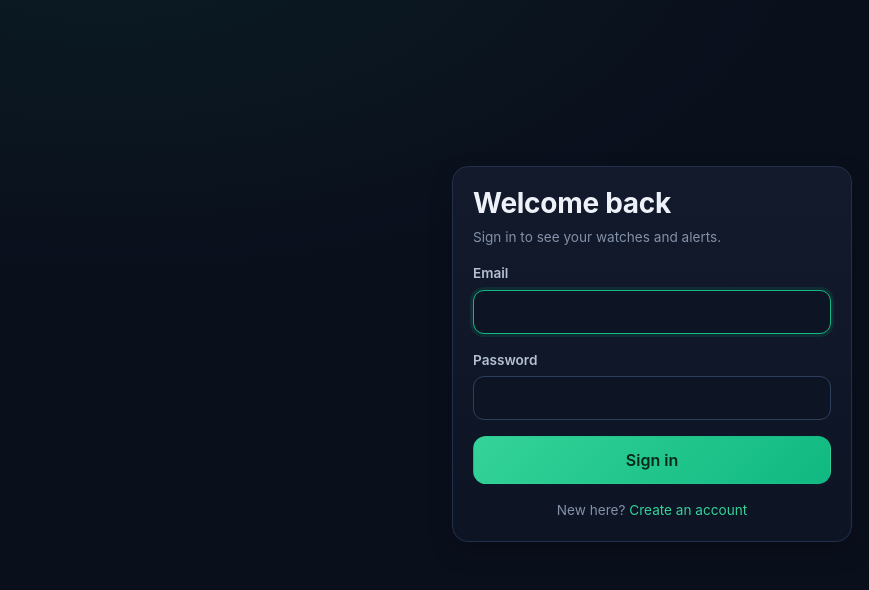
Test: auth pages › shows the server error on failed login
Step 1. Type "a@example.com" into the field labelled "Email" → (652, 312), box [473, 290, 831, 334]
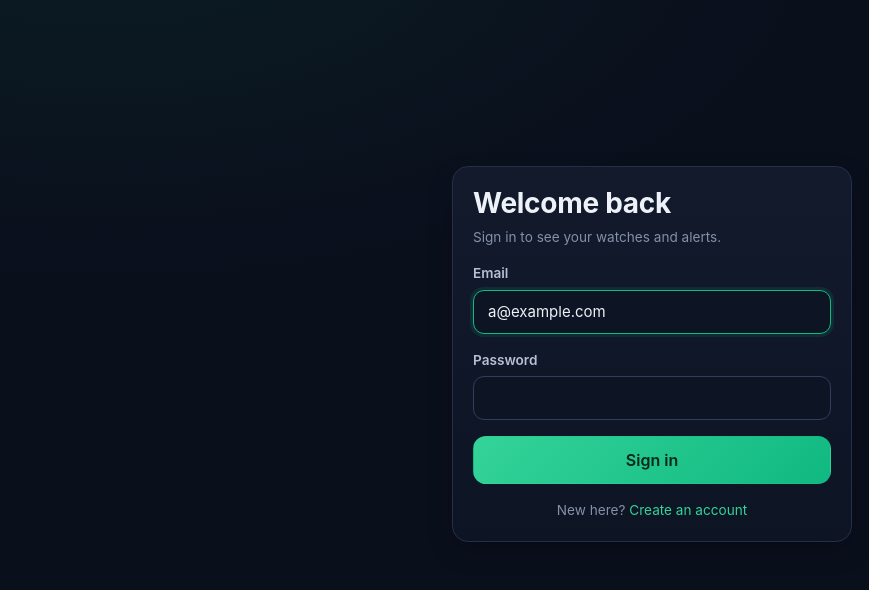
Step 2. Type "wrong-pass-1" into the password field labelled "Password" → (652, 398), box [473, 376, 831, 420]
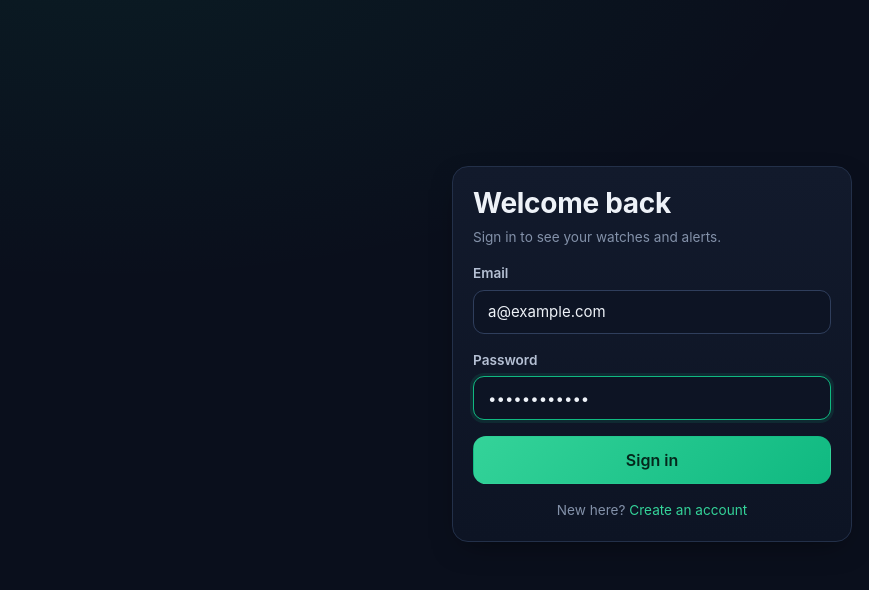
Step 3. Click the button "Sign in" → (652, 460), box [473, 436, 831, 484]
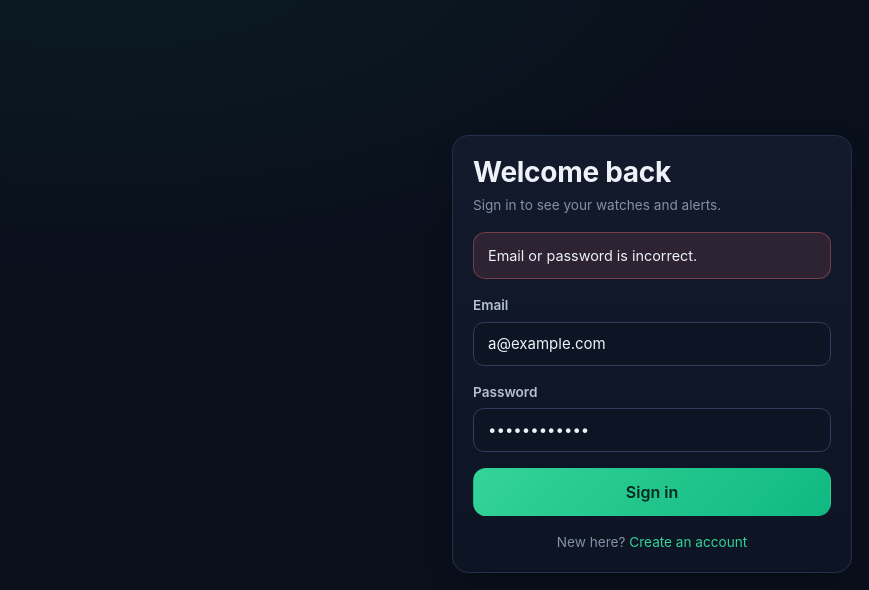
Now the message reads "Email or password is incorrect.", box [488, 247, 697, 264]
